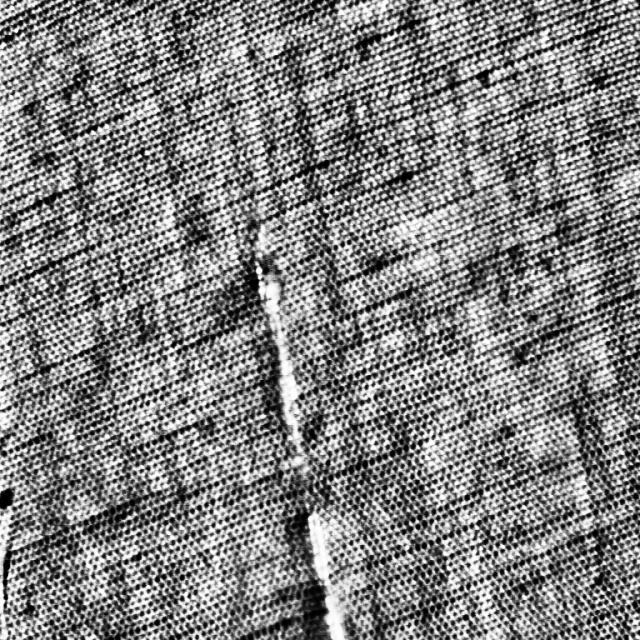Stitch: (246, 240, 341, 639)
